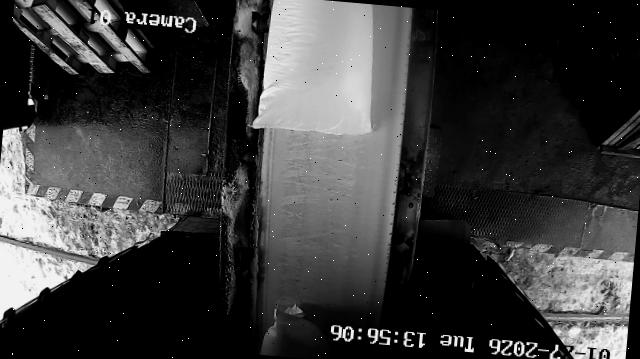bag: (252, 0, 381, 138), (260, 300, 337, 359)
